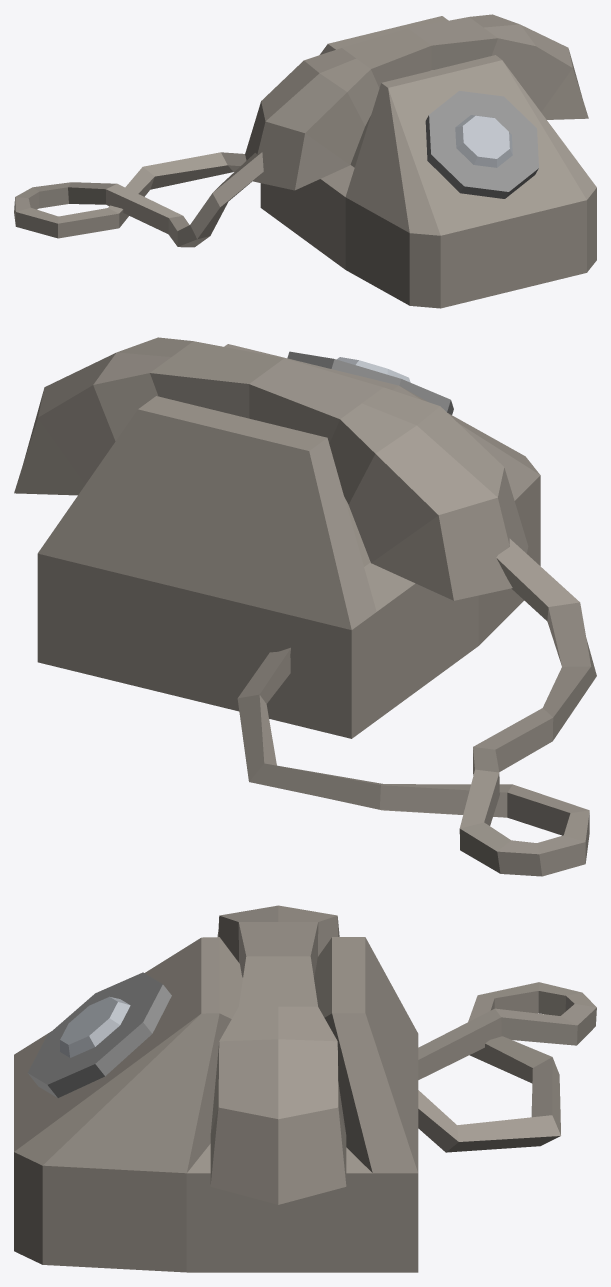
The model's file is Phone.fbx.
3 views of the same model, one above another, from view 1: azimuth 30°, elevation 25°; view 2: azimuth 150°, elevation 25°; view 3: azimuth 270°, elevation 25° (orthographic). The views are drawn at different scales.
Visible parts, largest first — view 1: Phone; view 2: Phone; view 3: Phone.
Boxes of the visible parts, left/top/right/bottom form: Phone: left=14, top=14, right=596, bottom=308; Phone: left=14, top=337, right=596, bottom=876; Phone: left=14, top=905, right=596, bottom=1272.
Size of the model in its own units: 44.51 by 16.72 by 34.91.
Materials: 1 (1 with a texture image).
